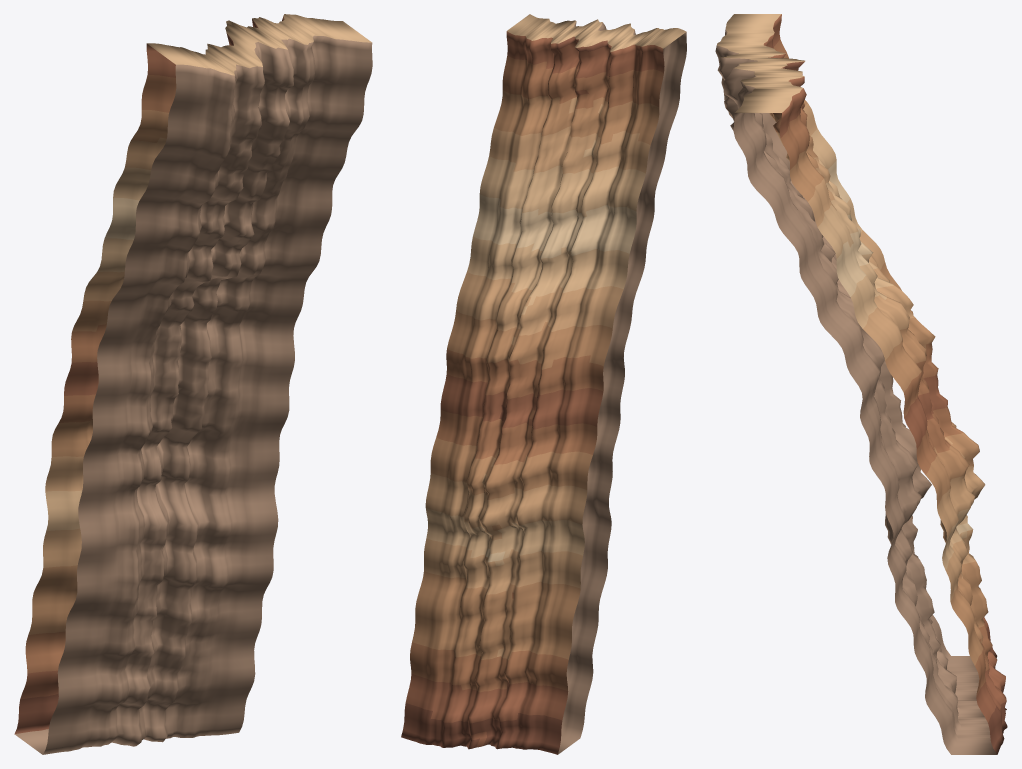
Rendered from SM_CanyonWall_R_Fall_3m.glb.
3 renders of one model, left to right at view 1: azimuth 30°, elevation 25°; view 2: azimuth 150°, elevation 25°; view 3: azimuth 270°, elevation 25°, orthographic. The views are drawn at different scales.
Parts seen in each view (by area): view 1: SM_CanyonWall_R_Fall_3m; view 2: SM_CanyonWall_R_Fall_3m; view 3: SM_CanyonWall_R_Fall_3m.
Boxes of the visible parts, x1,y1,x2,y2 form: SM_CanyonWall_R_Fall_3m: (14,14,372,754); SM_CanyonWall_R_Fall_3m: (401,14,686,754); SM_CanyonWall_R_Fall_3m: (715,14,1007,754).
Size of the model in its own units: 24 by 95 by 37.93.
